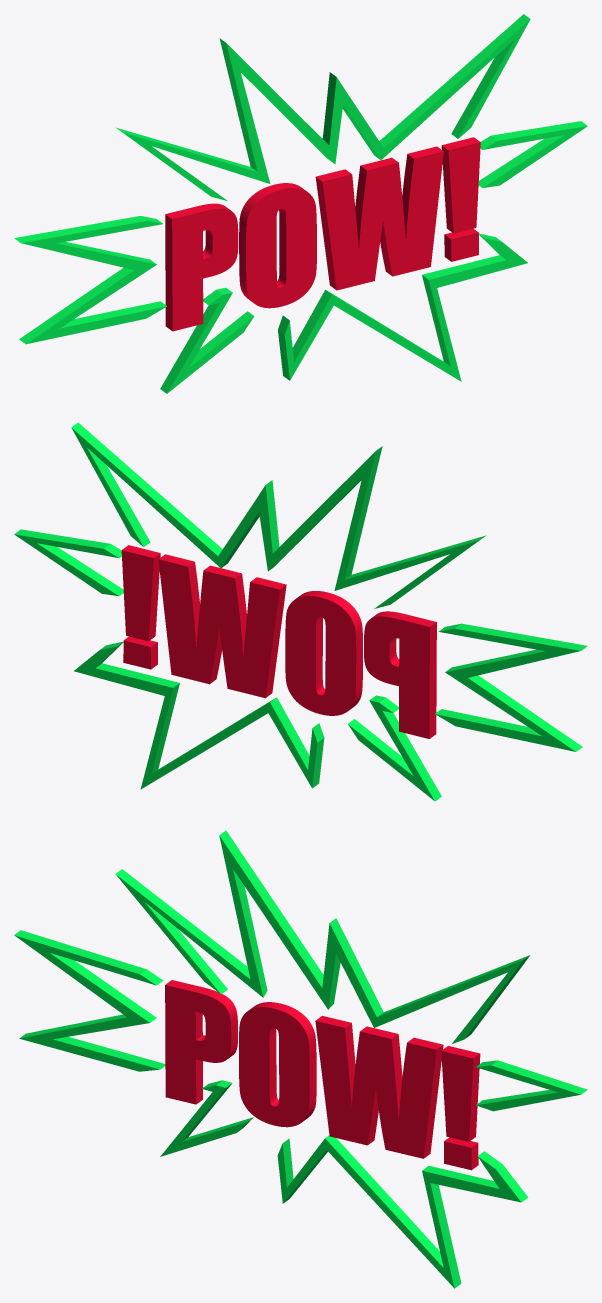
The model's file is sm_powlights.fbx.
The picture shows the model from 3 angles, top to bottom: view 1: azimuth 30°, elevation 25°; view 2: azimuth 150°, elevation 25°; view 3: azimuth 330°, elevation 25°; orthographic projection.
Visible parts, largest first — view 1: powlight_low (×2); view 2: powlight_low (×2); view 3: powlight_low (×2).
Part boxes in pixels (x1,y1,x2,y2): powlight_low (×2): (14,14,587,393); powlight_low (×2): (14,422,587,801); powlight_low (×2): (14,830,587,1288).
Bounding box in the file's own units: 112 × 75.1 × 2.46.
